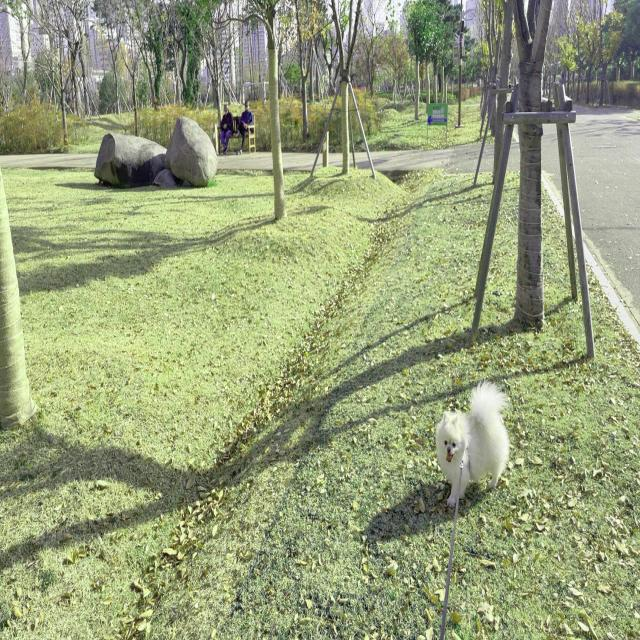Dog: (435, 376, 511, 508)
